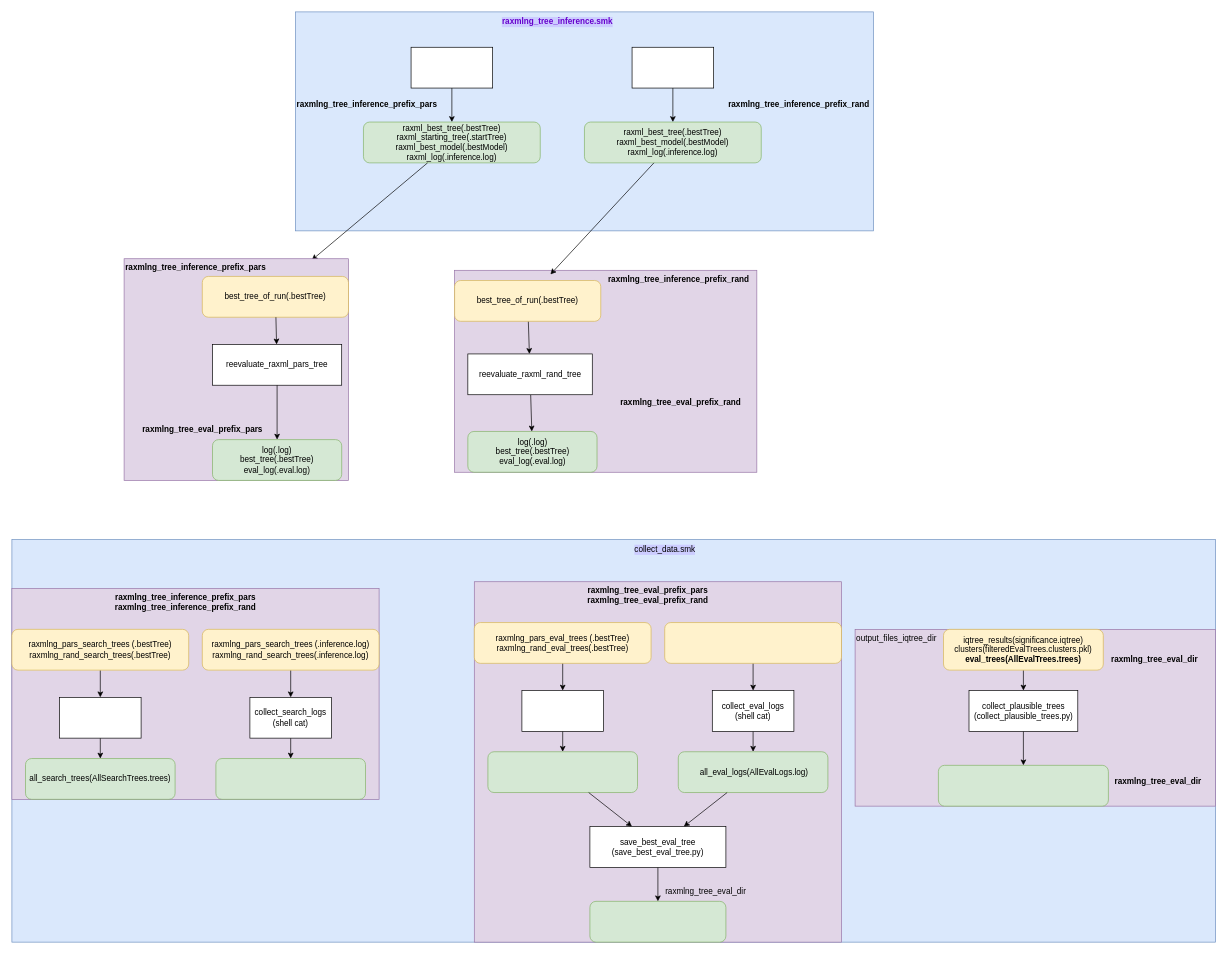
Some shapes in this 1227 by 954 pixel diagram are drawn without their labels. Each missing label, with the box of its shape:
all_eval_trees(AllEvalTrees.trees): (487, 751, 638, 793)
all_plausible_trees(AllPlausibleTrees.trees): (938, 765, 1108, 806)
all_search_logs(AllSearchLogs.log): (215, 758, 366, 799)
best_eval_tree(BestEvalTree.tree): (589, 901, 726, 942)
c ollect_search_trees (shell cat): (59, 697, 141, 738)
collect_eval_trees (shell cat): (521, 690, 604, 731)
raxmlng_pars_eval_logs (.eval.log) raxmlng_rand_eval_logs(.eval.log): (664, 622, 842, 663)
raxmlng_pars_tree: (410, 47, 493, 88)
raxmlng_rand_tree: (631, 47, 714, 88)
